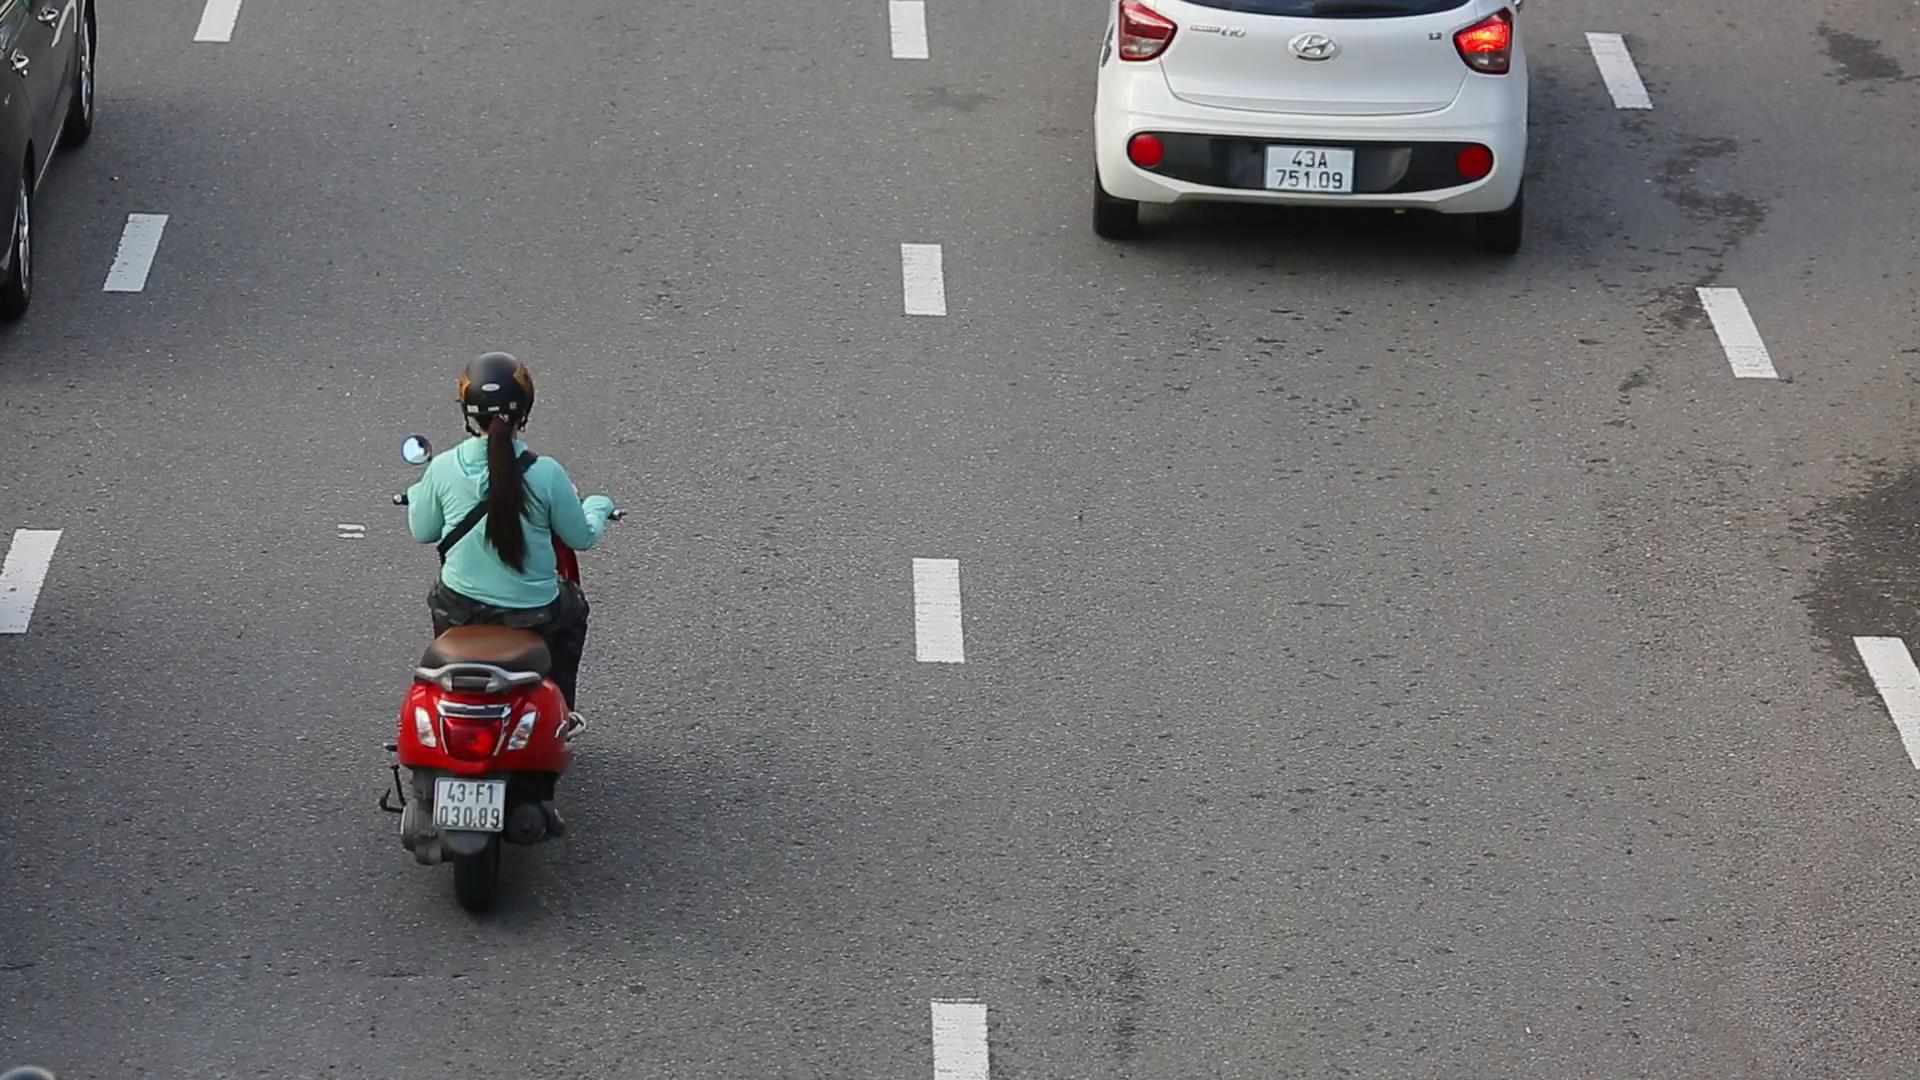motobike: (378, 352, 630, 927)
